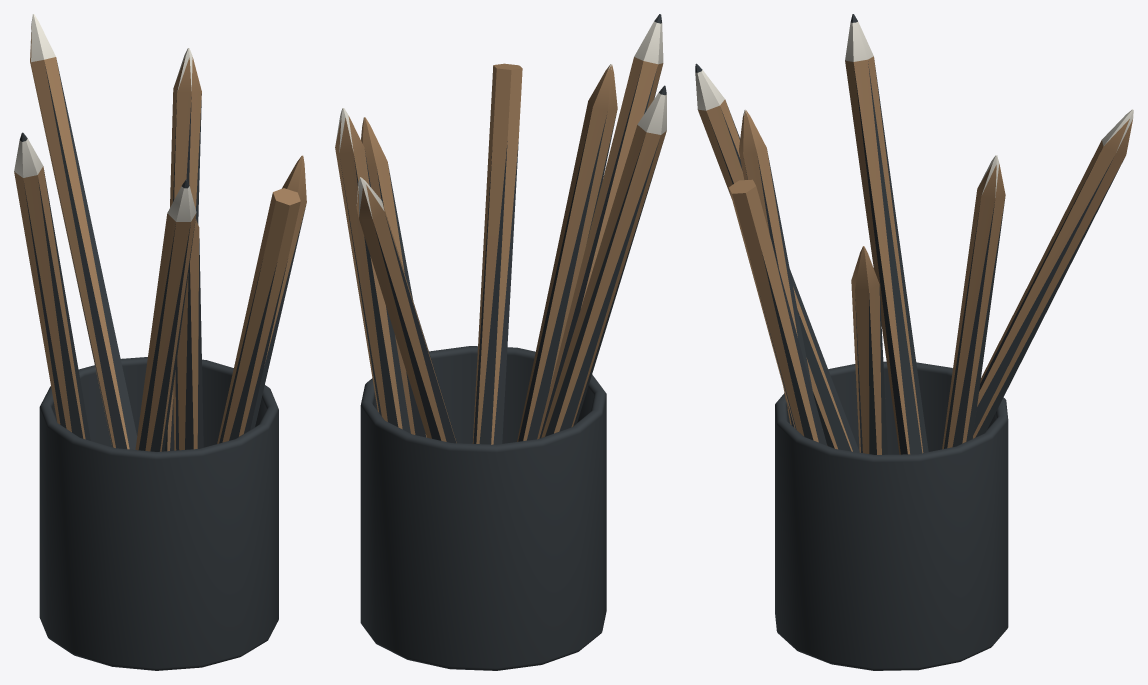
Rendered from ergoflex-pencil-cup.glb.
The picture shows the model from 3 angles, left to right: view 1: azimuth 30°, elevation 25°; view 2: azimuth 150°, elevation 25°; view 3: azimuth 270°, elevation 25°; orthographic projection. The views are drawn at different scales.
Visible parts, largest first — view 1: Mesh_0, Mesh_1; view 2: Mesh_0, Mesh_1; view 3: Mesh_0, Mesh_1.
Boxes of the visible parts, <box> form: Mesh_0: <box>19,63,305,670</box>; Mesh_1: <box>14,14,306,451</box>; Mesh_0: <box>341,14,666,670</box>; Mesh_1: <box>335,21,666,444</box>; Mesh_0: <box>695,14,1122,670</box>; Mesh_1: <box>695,21,1133,454</box>.
Size of the model in its own units: 0.0928 by 0.165 by 0.1228.
